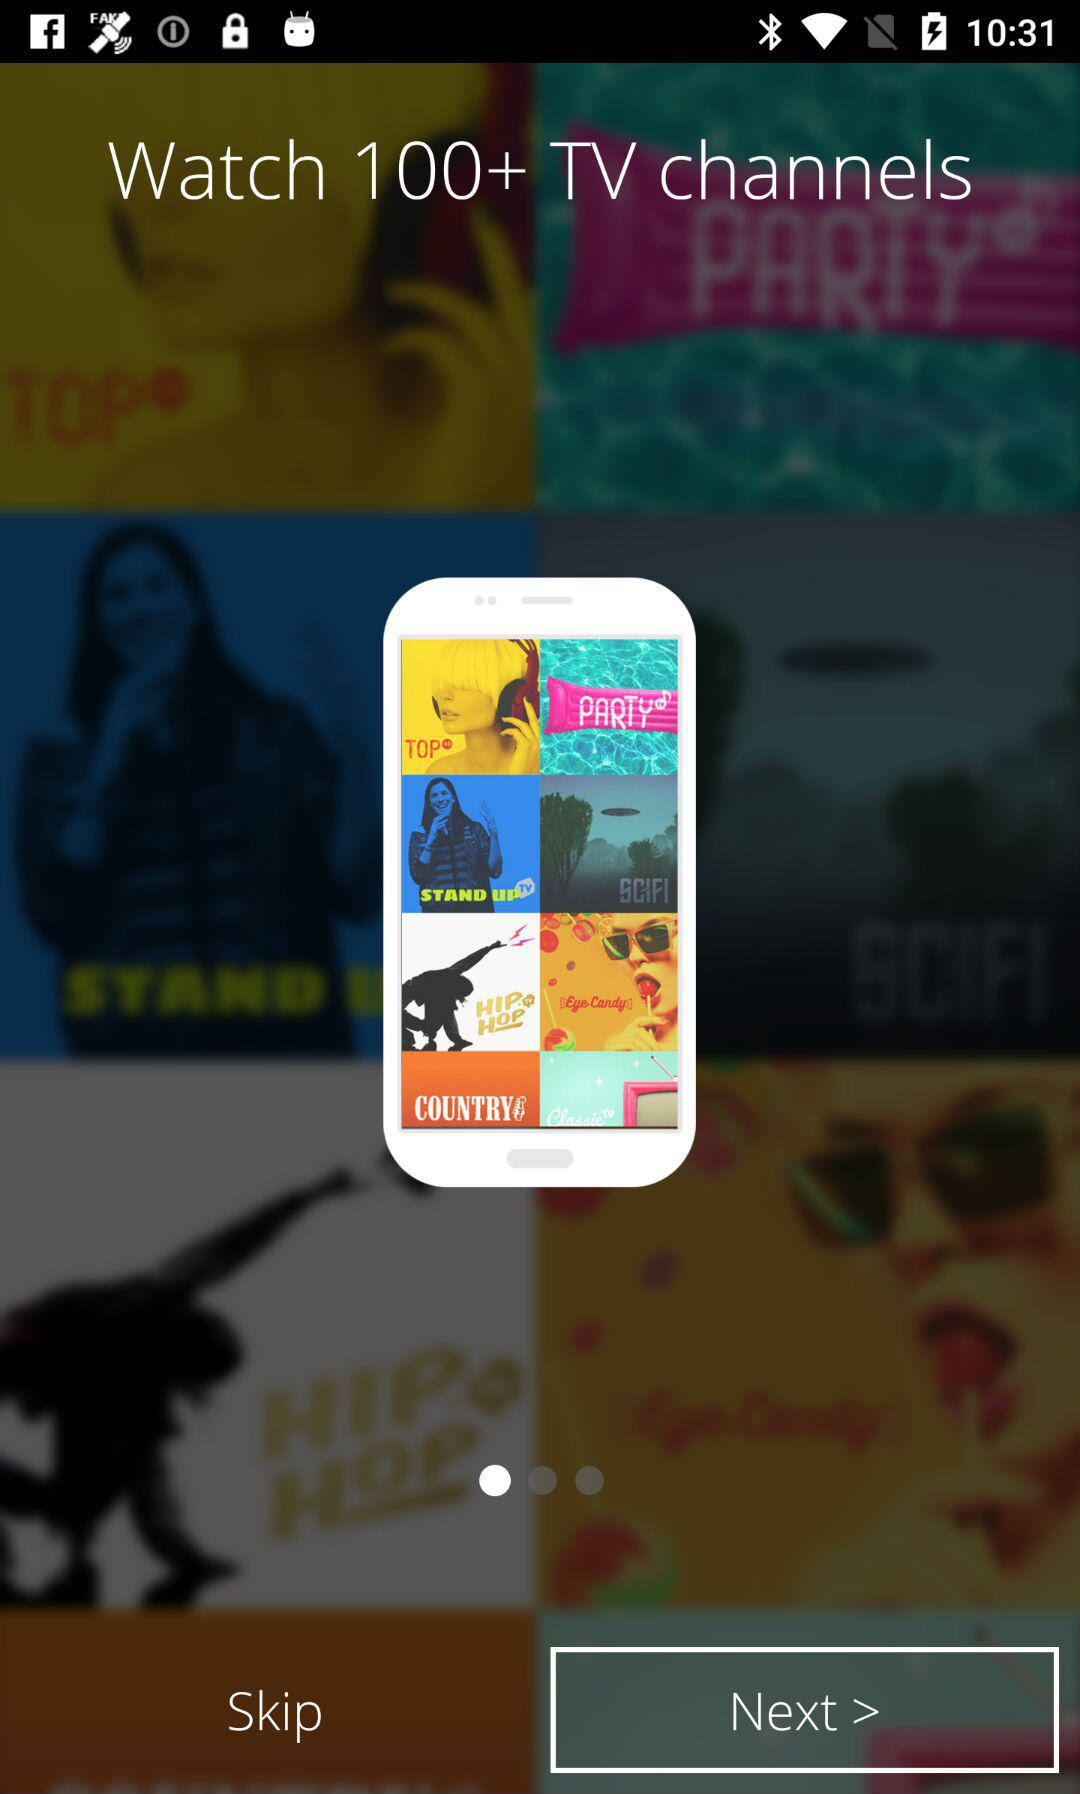BackgroundImage: (1, 64, 1080, 1794)
Image: (383, 577, 697, 1189)
PageIndicator: (478, 1463, 607, 1498)
Text: (108, 138, 972, 202), (228, 1689, 322, 1744)
TextButton: (550, 1647, 1060, 1773)
UpperTaskBar: (1, 1, 1080, 64)
